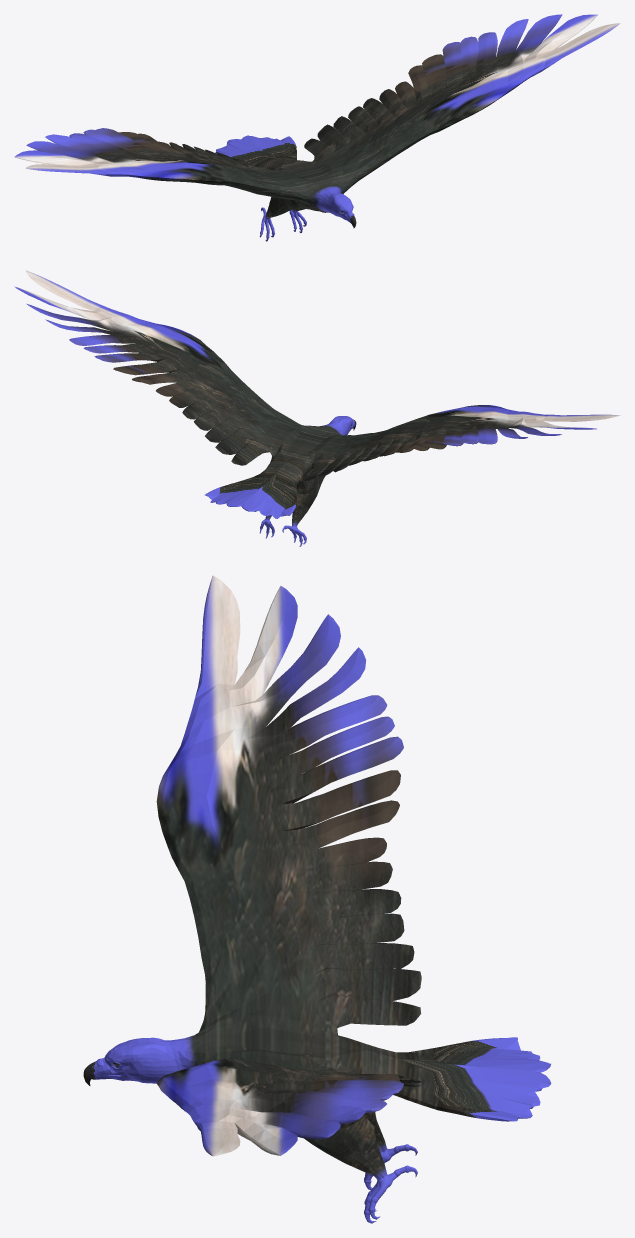
The model's file is eagle.obj.
3 views of the same model, one above another, from view 1: azimuth 30°, elevation 25°; view 2: azimuth 150°, elevation 25°; view 3: azimuth 270°, elevation 25° (orthographic). The views are drawn at different scales.
Parts seen in each view (by area): view 1: object 1; view 2: object 1; view 3: object 1.
Part boxes in pixels (x1,y1,x2,y2): object 1: [14, 14, 620, 241]; object 1: [14, 270, 620, 546]; object 1: [83, 575, 551, 1223].
Bounding box in the file's own units: 1.47 × 0.4026 × 0.5001.
1 material, 1 textured.
